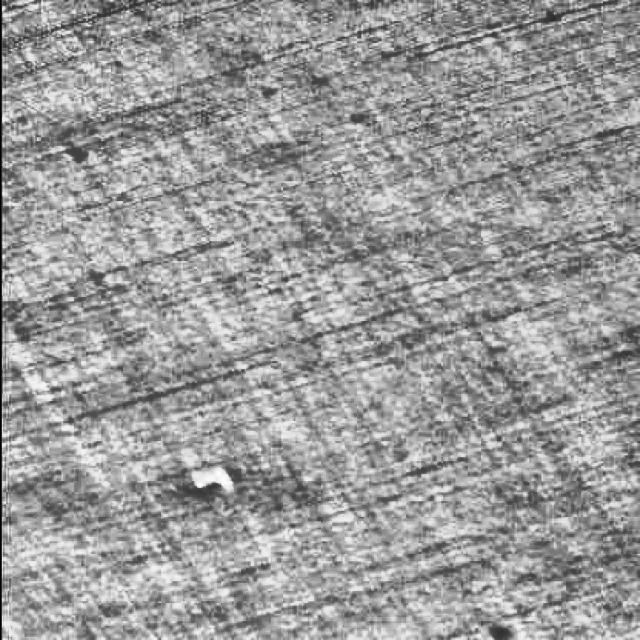hole: (178, 452, 244, 500)
